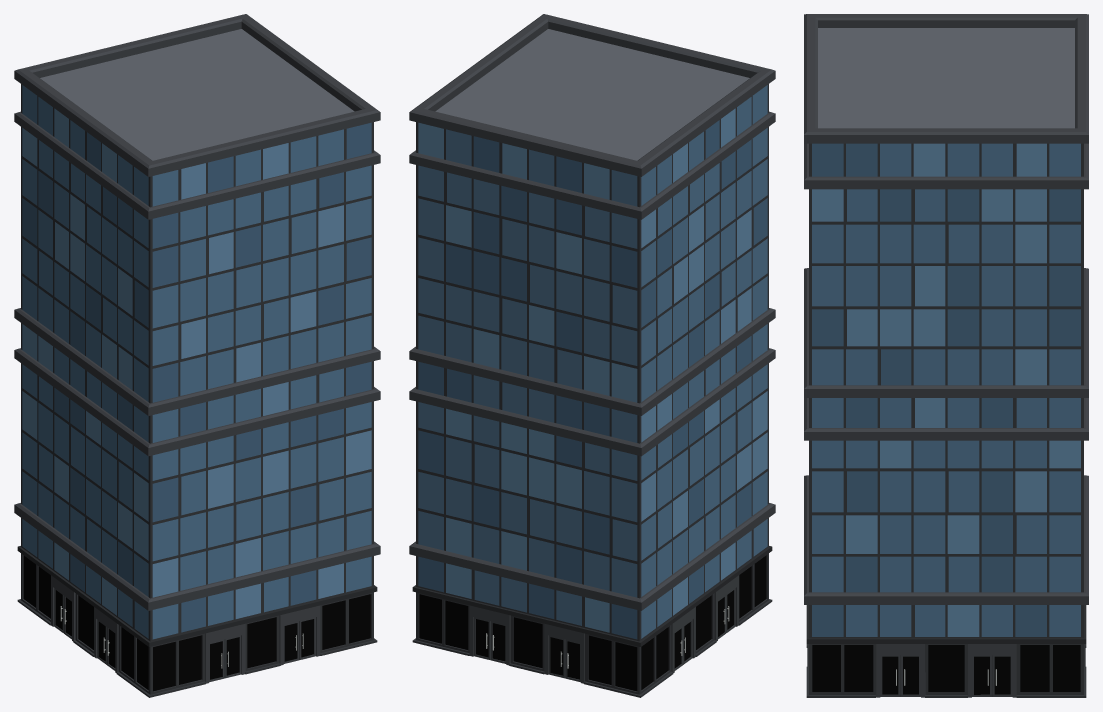
File: SM_OfficeSquare.glb
3 renders of one model, left to right at view 1: azimuth 30°, elevation 25°; view 2: azimuth 150°, elevation 25°; view 3: azimuth 270°, elevation 25°, orthographic. The views are drawn at different scales.
Visible parts, largest first — view 1: SM_Bld_OfficeSquare_Base_01; view 2: SM_Bld_OfficeSquare_Base_01; view 3: SM_Bld_OfficeSquare_Base_01.
Boxes of the visible parts, left/top/right/bottom form: SM_Bld_OfficeSquare_Base_01: left=14, top=14, right=380, bottom=697; SM_Bld_OfficeSquare_Base_01: left=409, top=14, right=775, bottom=697; SM_Bld_OfficeSquare_Base_01: left=804, top=14, right=1088, bottom=697.
Size of the model in its own units: 15.55 by 34.07 by 15.55.
Materials: 2 (1 with a texture image).
